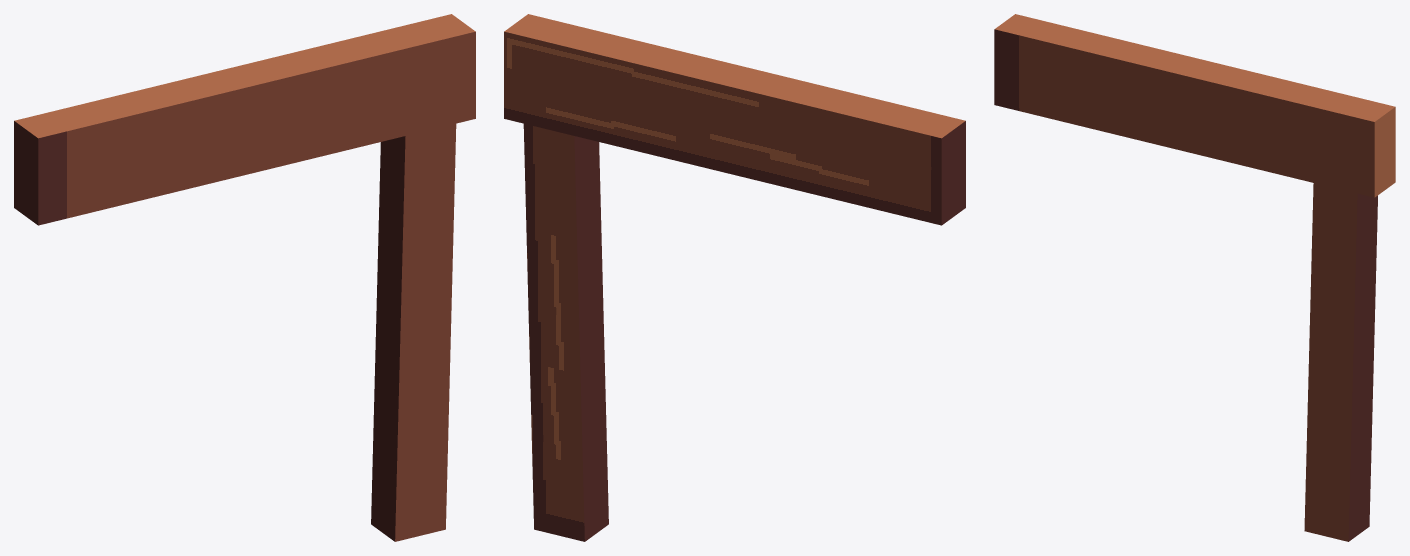
File: StarspireSign - WithoutFrontLeg.gltf
3 renders of one model, left to right at view 1: azimuth 30°, elevation 25°; view 2: azimuth 150°, elevation 25°; view 3: azimuth 330°, elevation 25°, orthographic. The views are drawn at different scales.
Parts seen in each view (by area): view 1: mesh; view 2: mesh; view 3: mesh.
Part boxes in pixels (<box>): mesh: <box>14,14,475,541</box>; mesh: <box>504,14,965,541</box>; mesh: <box>994,14,1395,541</box>.
Size of the model in its own units: 10.5 by 11.25 by 1.
1 material, 1 textured.
